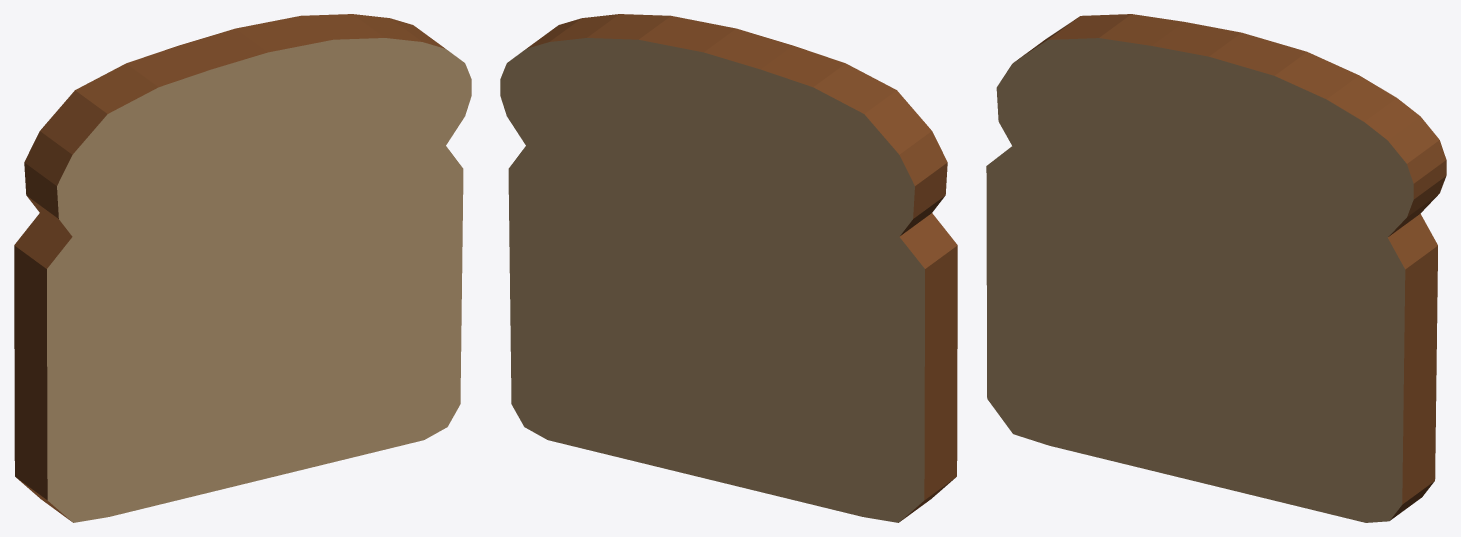
The model's file is PieceOfBread.FBX.
3 views of the same model, side by side, from view 1: azimuth 30°, elevation 25°; view 2: azimuth 150°, elevation 25°; view 3: azimuth 330°, elevation 25° (orthographic).
Visible parts, largest first — view 1: Rectangle001; view 2: Rectangle001; view 3: Rectangle001.
Boxes of the visible parts, x1,y1,x2,y2 form: Rectangle001: [14, 14, 471, 522]; Rectangle001: [500, 14, 957, 522]; Rectangle001: [986, 14, 1446, 522].
Size of the model in its own units: 210 by 201 by 27.95.
